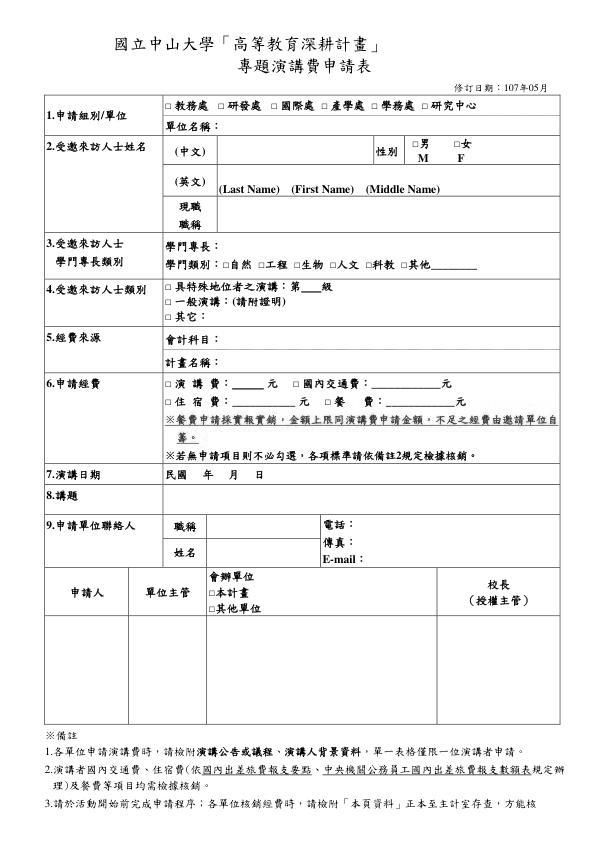table: (42, 92, 564, 727)
text: (41, 744, 566, 814), (110, 34, 387, 56), (234, 55, 375, 78), (448, 82, 551, 94), (42, 727, 79, 742)
